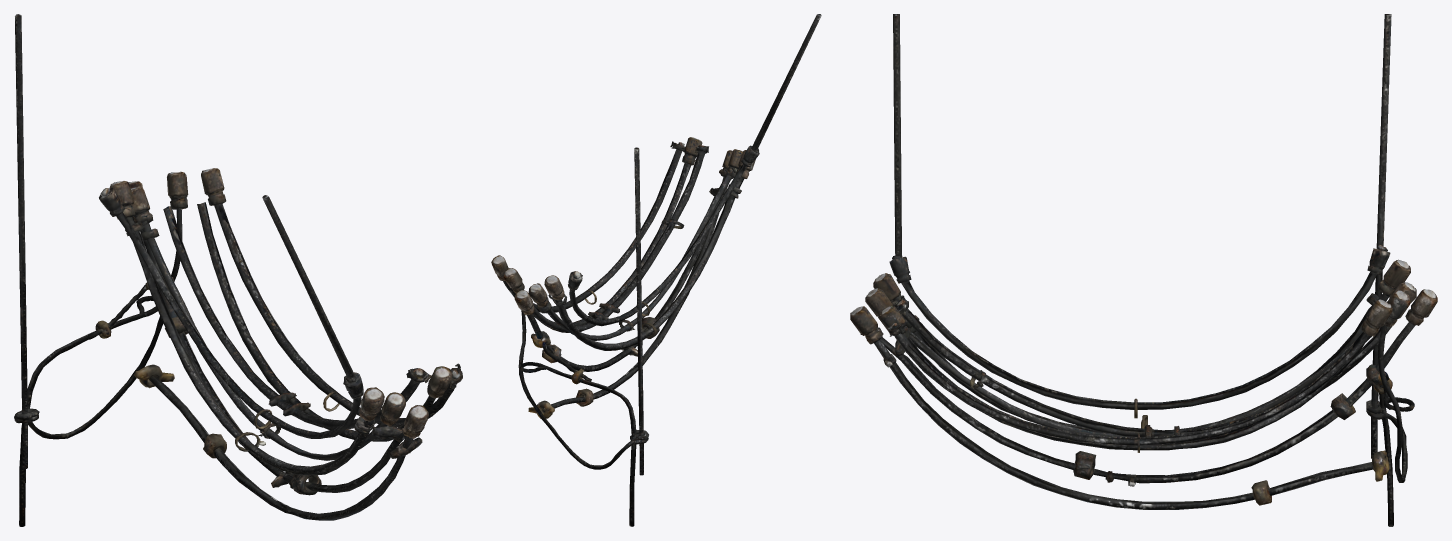
File: prop-cable-ceiling-v01.glb
3 views of the same model, side by side, from view 1: azimuth 30°, elevation 25°; view 2: azimuth 150°, elevation 25°; view 3: azimuth 270°, elevation 25° (orthographic). The views are drawn at different scales.
Parts seen in each view (by area): view 1: tripo_node_208bcbc5-a326-4cda-9142-5f1ee72dea13; view 2: tripo_node_208bcbc5-a326-4cda-9142-5f1ee72dea13; view 3: tripo_node_208bcbc5-a326-4cda-9142-5f1ee72dea13.
Part boxes in pixels (x1,y1,x2,y2): tripo_node_208bcbc5-a326-4cda-9142-5f1ee72dea13: [14, 14, 462, 526]; tripo_node_208bcbc5-a326-4cda-9142-5f1ee72dea13: [491, 14, 821, 526]; tripo_node_208bcbc5-a326-4cda-9142-5f1ee72dea13: [850, 14, 1437, 526].
Size of the model in its own units: 0.2456 by 0.5746 by 0.6005.
1 material, 1 textured.
